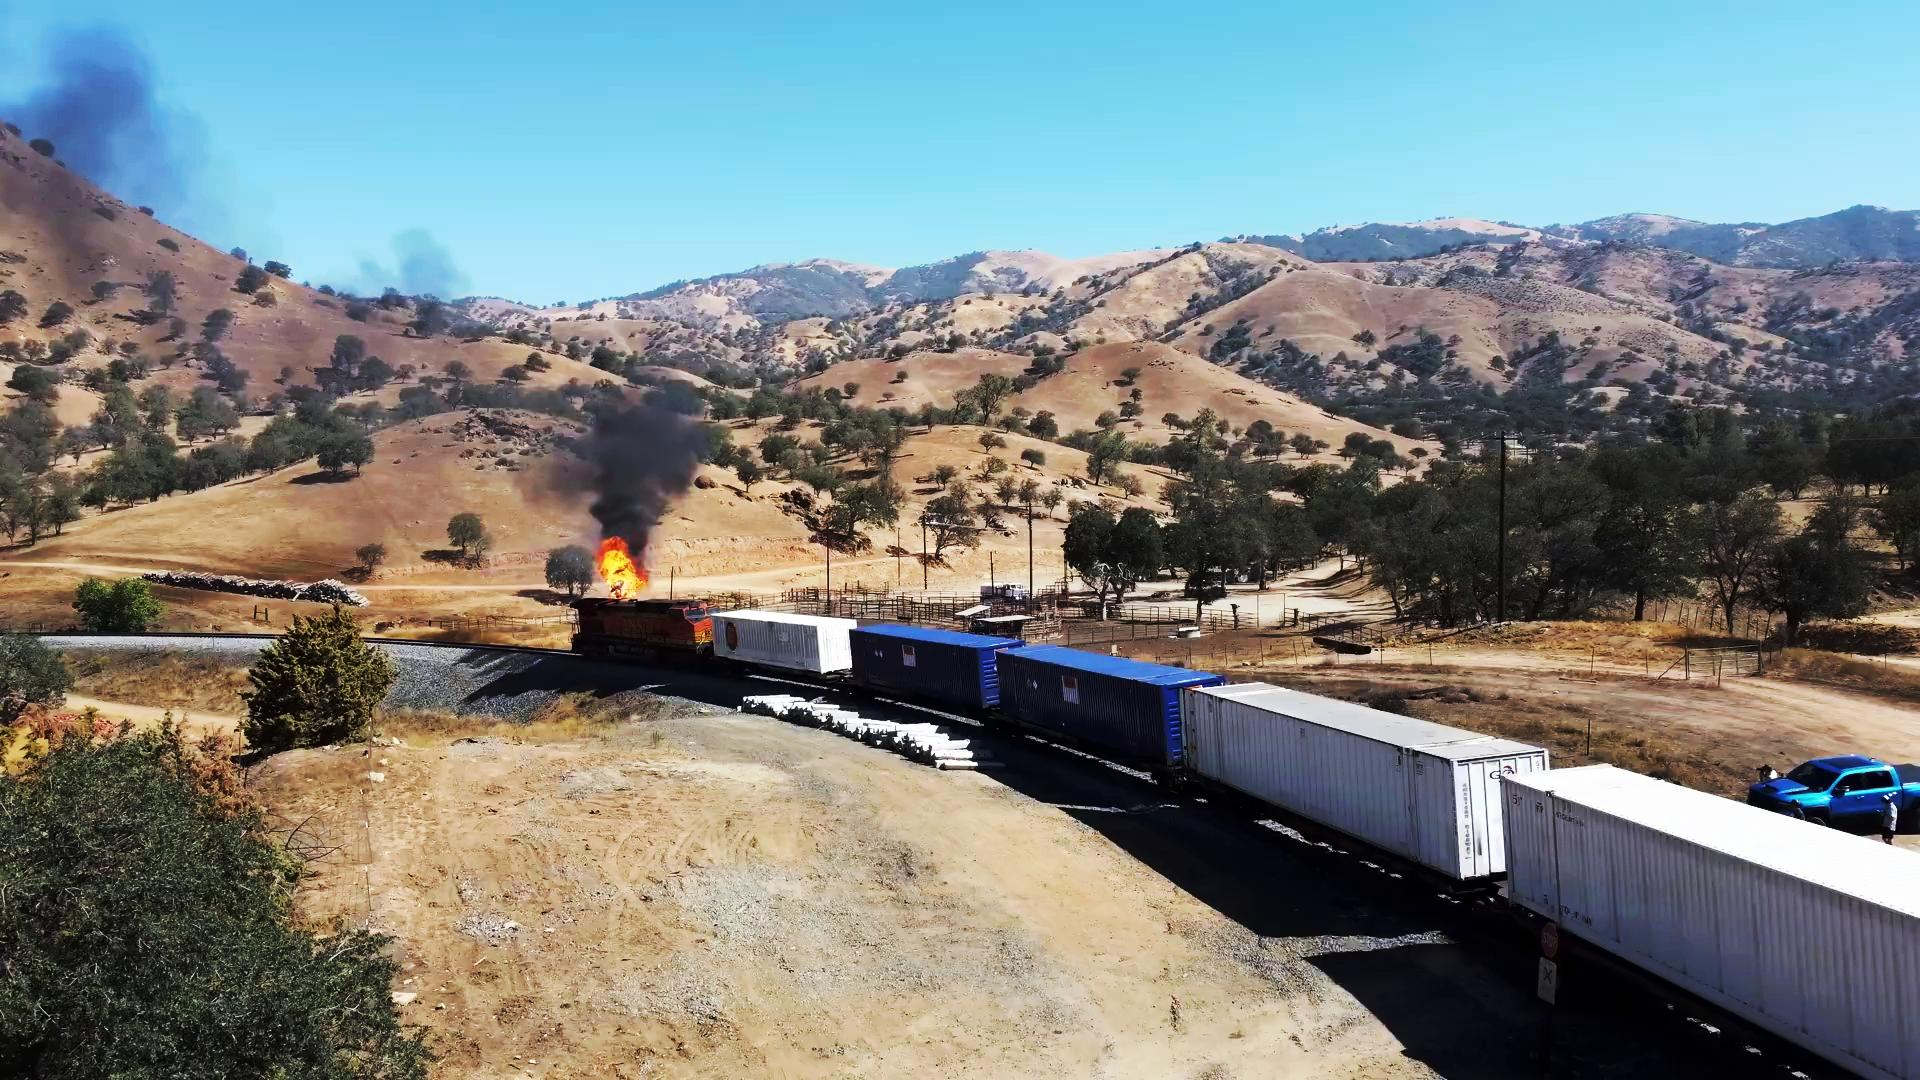fire: (598, 543, 649, 602)
smoke: (588, 398, 705, 521)
